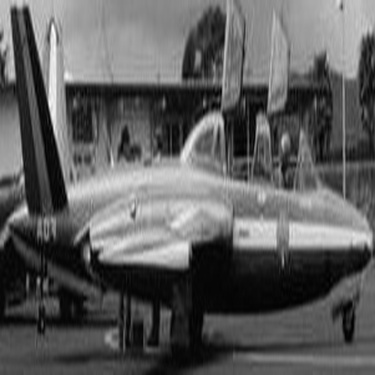airplane: (6, 1, 369, 368), (1, 7, 76, 314)
